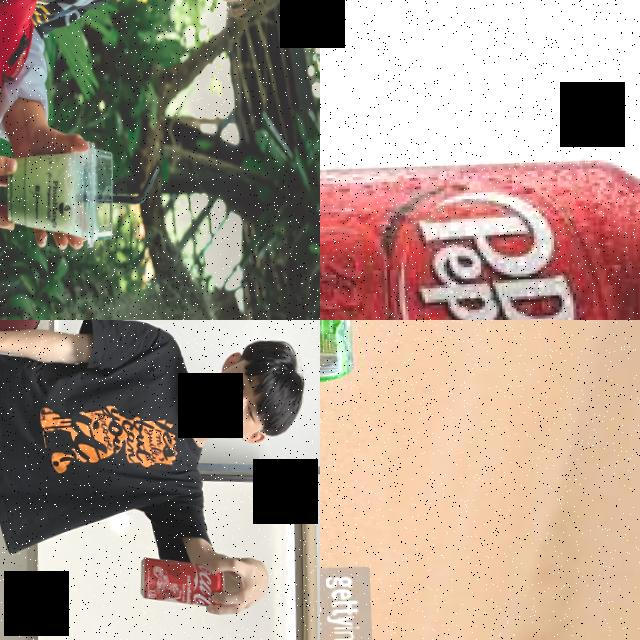can: (320, 149, 640, 320), (137, 552, 225, 612), (320, 320, 358, 385)
cup: (3, 142, 116, 246)
